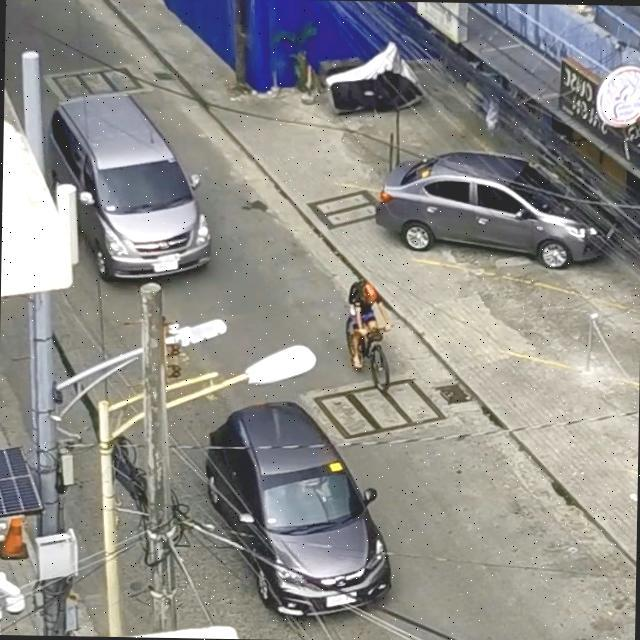Bike: (350, 314, 392, 396)
